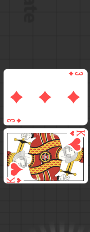3D: (68, 70, 85, 76)
KH: (69, 129, 86, 137)
